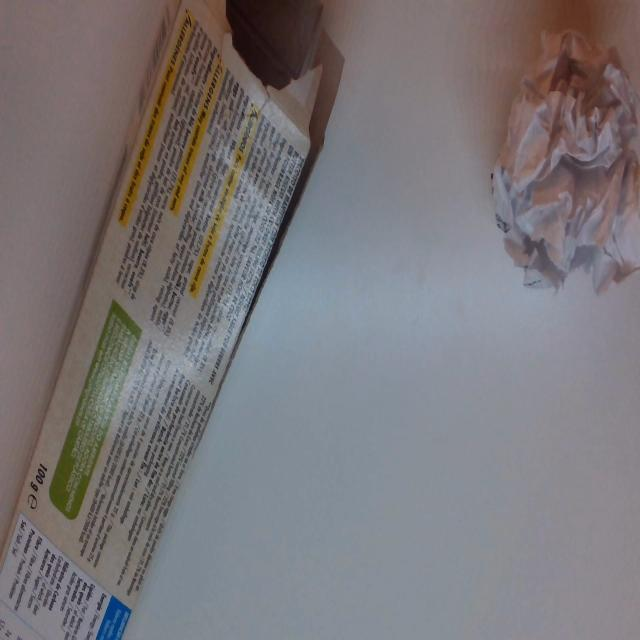Cardboard: (0, 0, 345, 640)
Paper: (504, 30, 640, 285)
